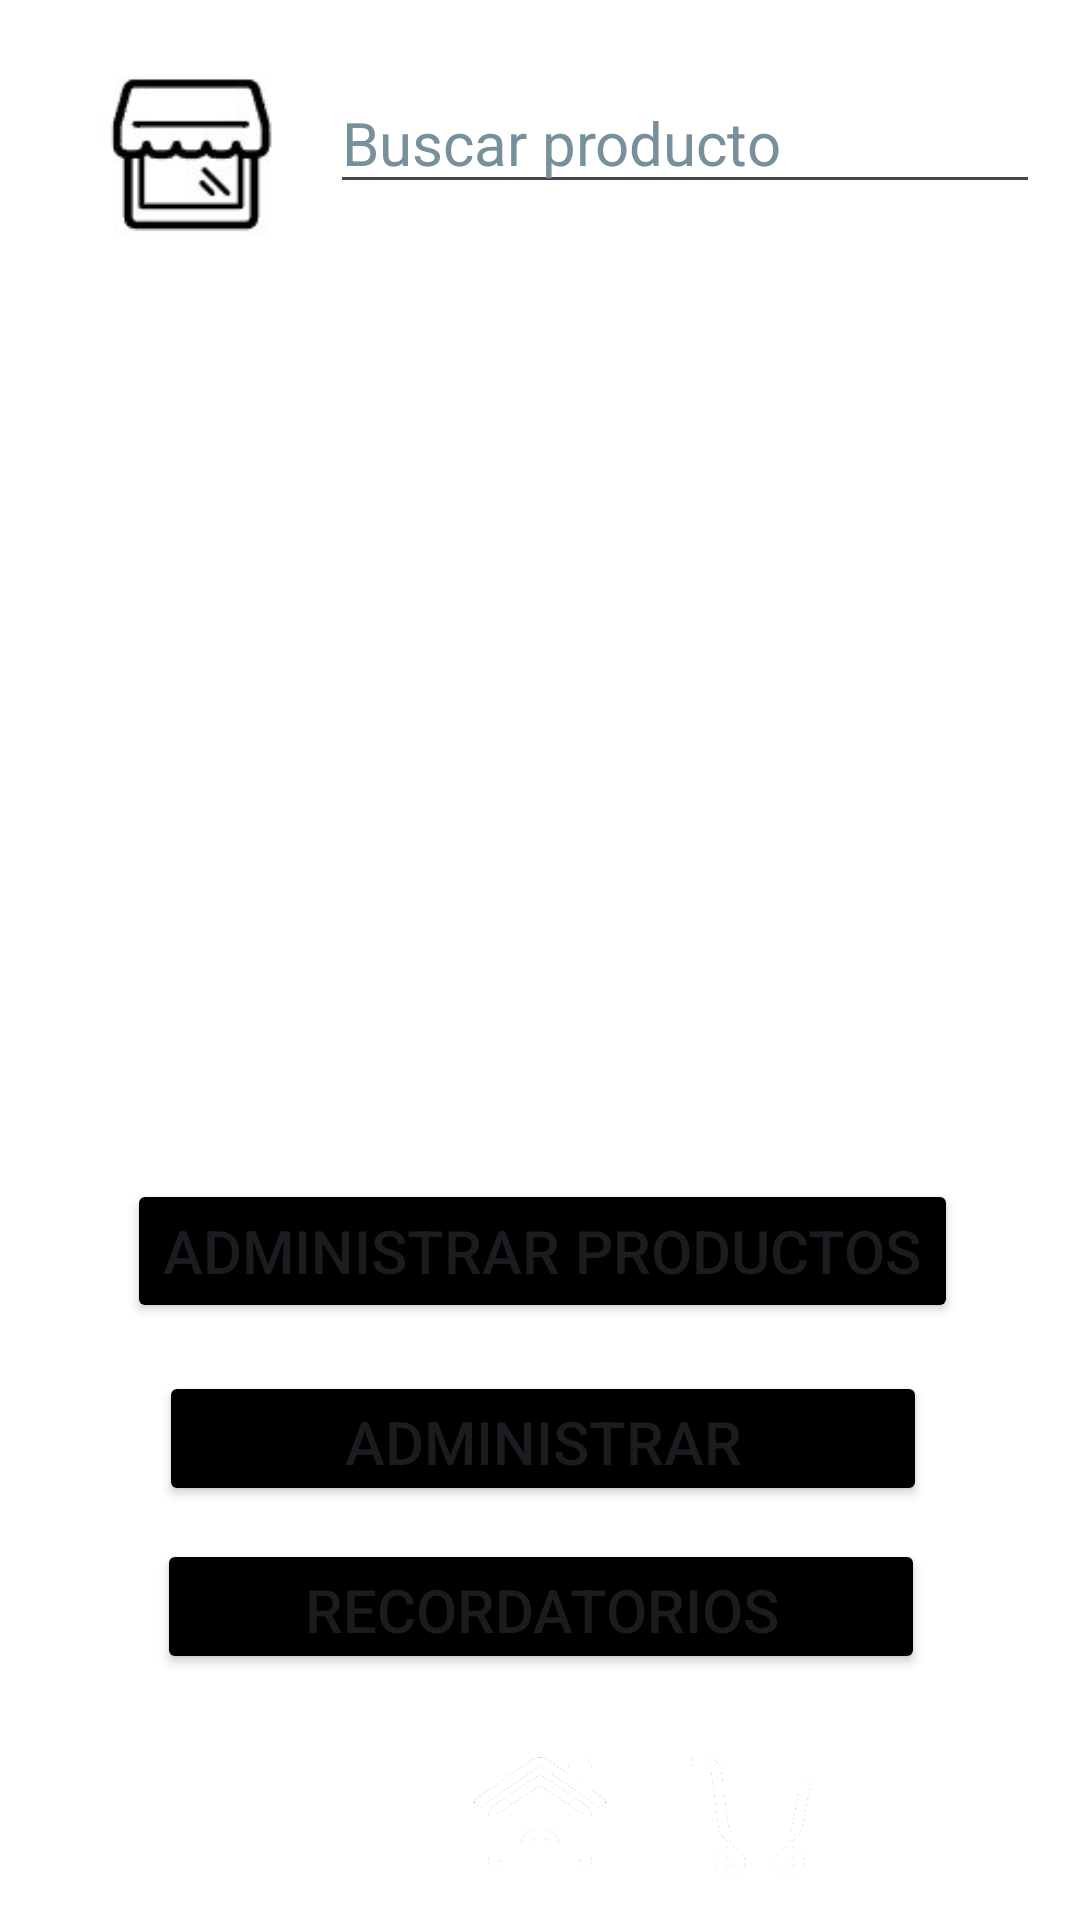

Named icons in this screenshot (1080 x 1920) and their centers, (x=x, y=y):
home: (x=540, y=1811)
